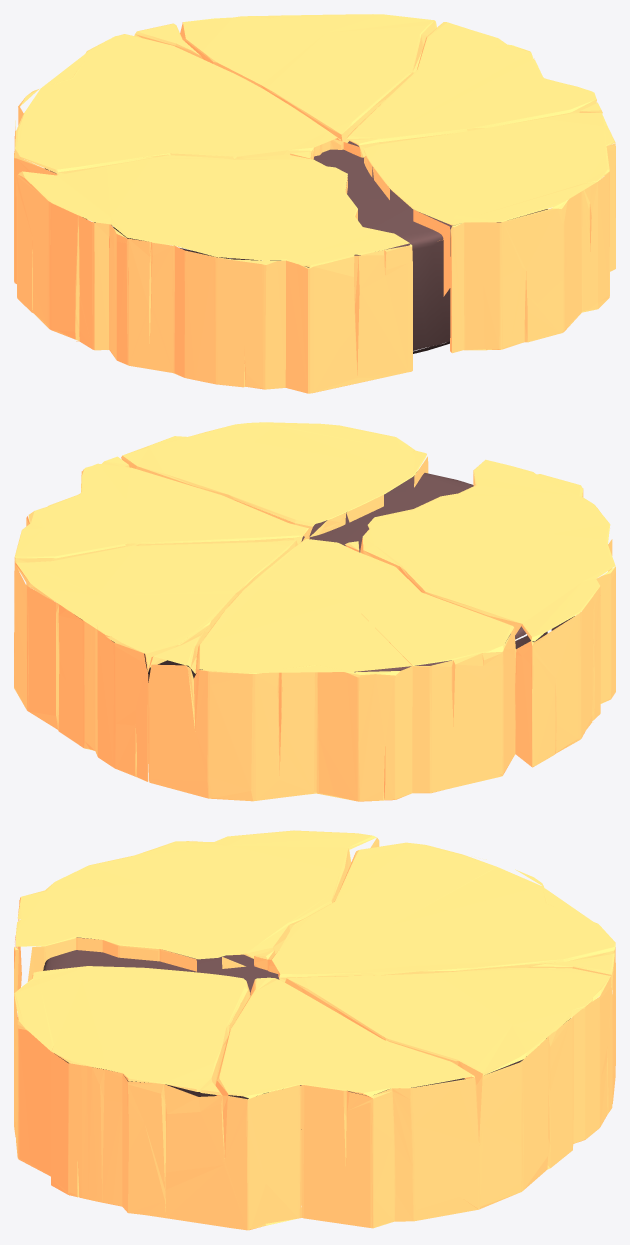
The model's file is lb_island.glb.
The picture shows the model from 3 angles, top to bottom: view 1: azimuth 30°, elevation 25°; view 2: azimuth 150°, elevation 25°; view 3: azimuth 270°, elevation 25°; orthographic projection. The views are drawn at different scales.
Parts seen in each view (by area): view 1: geometry_1, geometry_0; view 2: geometry_1, geometry_0; view 3: geometry_1, geometry_0.
Part boxes in pixels (left/top/right/bottom): geometry_1: left=14, top=14, right=615, bottom=393; geometry_0: left=45, top=141, right=547, bottom=353; geometry_1: left=14, top=422, right=615, bottom=801; geometry_0: left=80, top=472, right=574, bottom=682; geometry_1: left=14, top=830, right=615, bottom=1230; geometry_0: left=43, top=937, right=570, bottom=1129.
Bounding box in the file's own units: 22.71 × 5.49 × 21.66.
